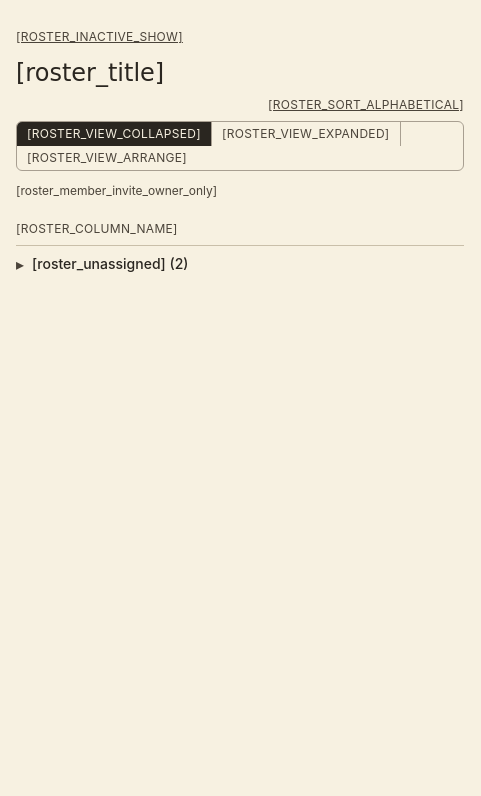
Test case: (A) two-step confirm — the page's existing destructive idiom, reused › cancel disarms — the arm control returns, still nothing written
The width and height of the screenshot is (481, 796).
What coordinates should you click on to do the following:
click the button with test id "section-toggle-unassigned"
I would click on:
 (110, 264)
Its box is [16,246,464,282].
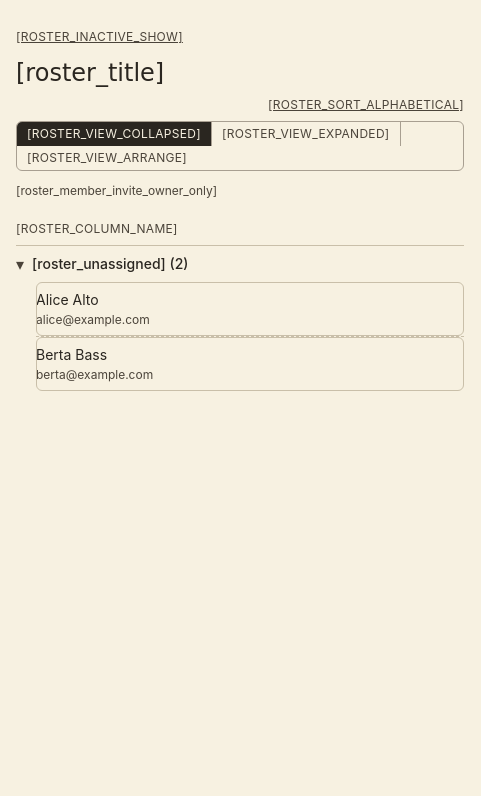
Check: the list item with test id "roster-row-m2" is shown
What coordinates should you click on to do the following:
click the button without text next to "berta@example.com"
I would click on:
 (250, 364)
Its box is [36,337,464,391].
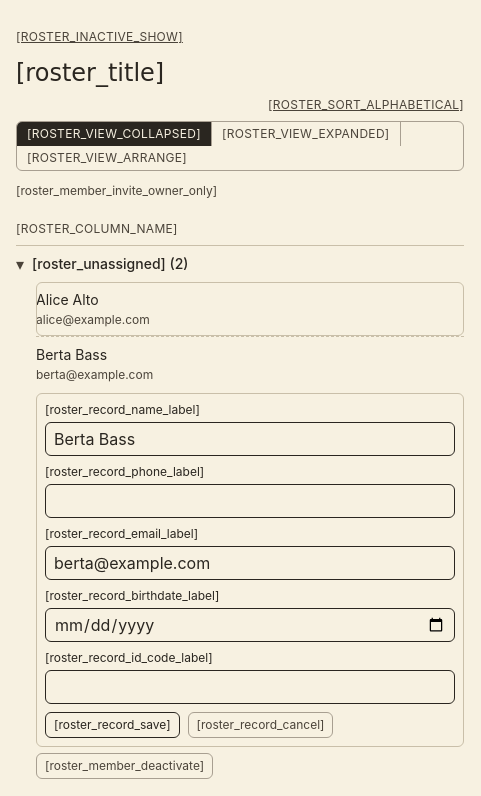
Check: the field with test id "roster-record-name" is shown, box [45,422,455,456]
What coordinates should you click on to do the following:
click the button with test id "member-deactivate-m2"
I would click on:
 (125, 766)
Its box is [36,753,213,779].
(page scrolled)
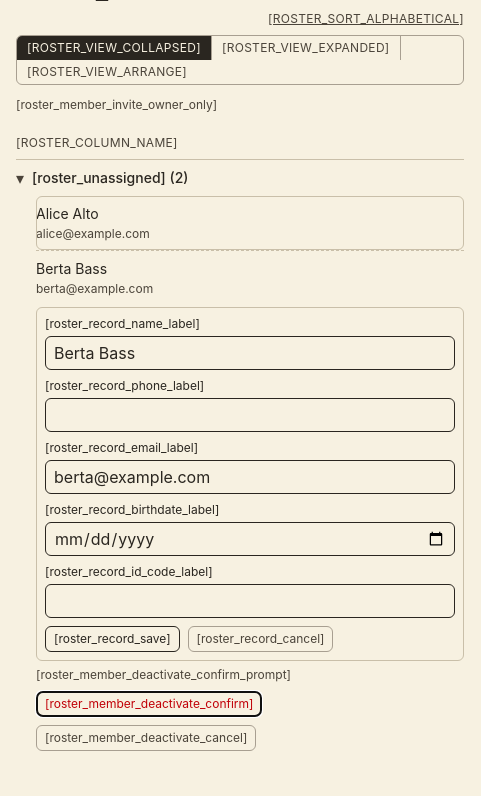
Check: the button with test id "member-deactivate-cancel-m2" is shown
What coordinates should you click on to do the following:
click the button with test id "member-deactivate-cancel-m2"
I would click on:
 (146, 738)
Its box is [36,725,256,751].
(page scrolled)
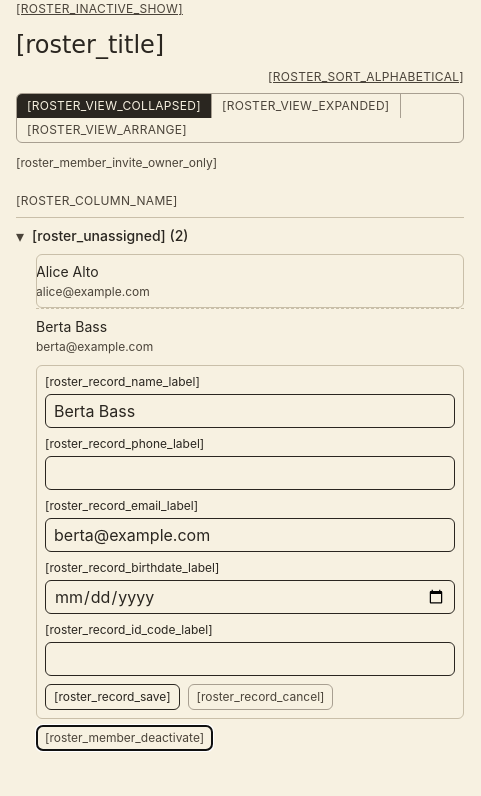
Check: the button with test id "member-deactivate-m2" is shown, box [36,725,213,751]
Check: the button with test id "member-deactivate-confirm-m2" is gone
